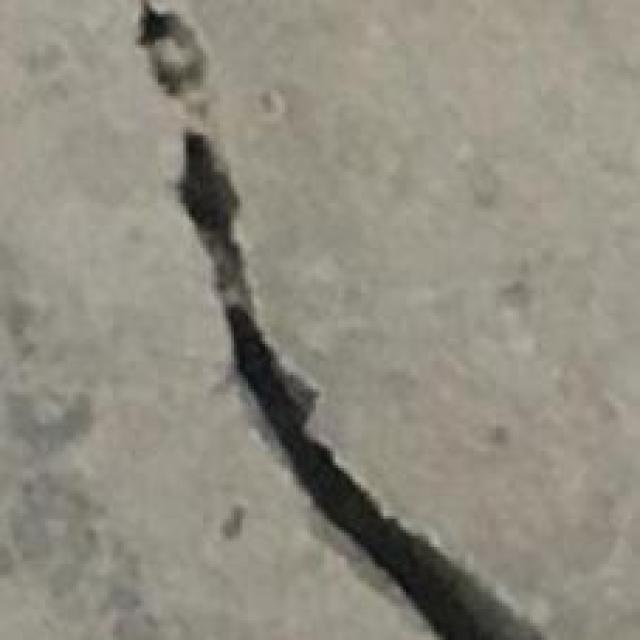diagonal crack: (138, 0, 541, 639)
